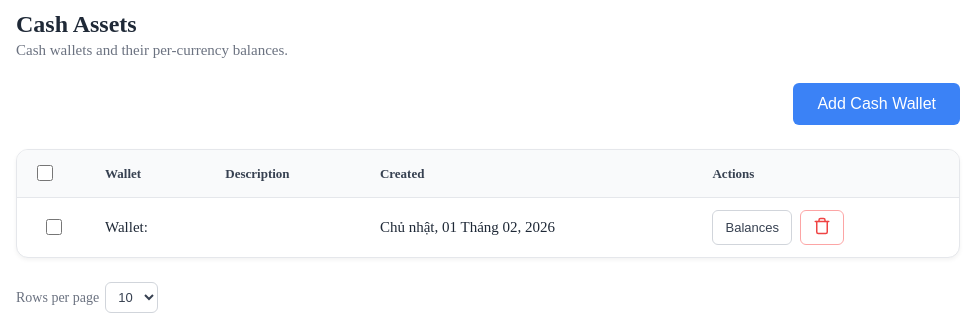
Test case: CashAssets (page) › deletes a wallet after confirmation
This screenshot has width=977, height=330.
Expected: the text "Wallet:" is shown, [89, 198, 209, 257]
What coordinates should you click on to do the following:
click the button titled "Delete"
I would click on:
 (822, 228)
Its box is [800, 210, 844, 245].
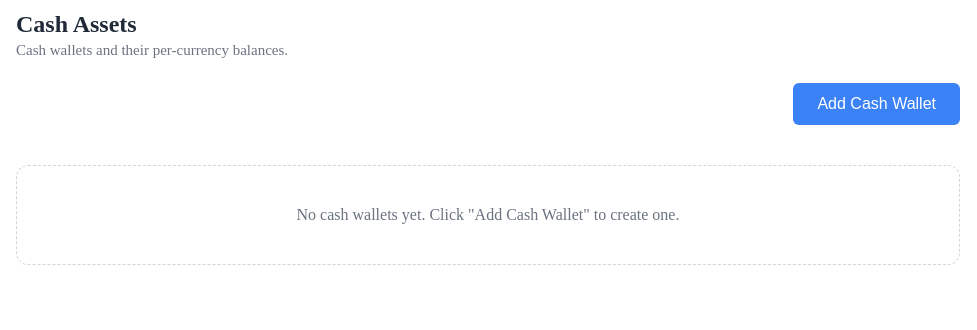
Now the text "No cash wallets yet. Click \"Add Cash Wallet\" to create one." is shown, box [16, 165, 960, 265]
